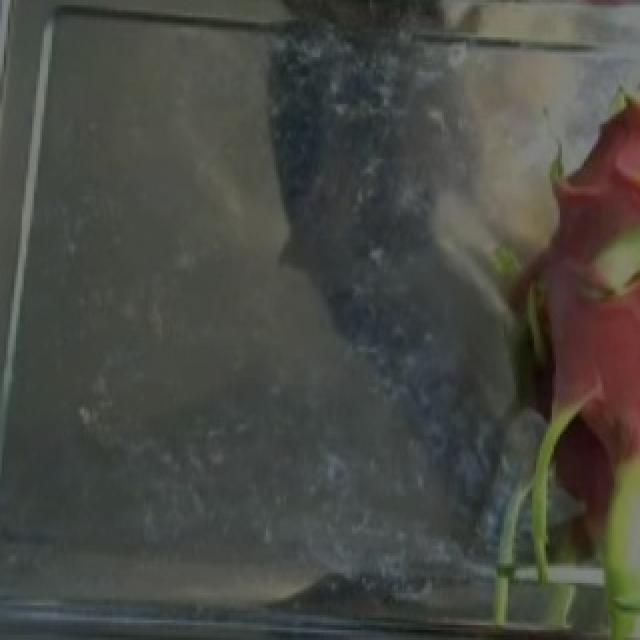fruit: (424, 221, 640, 635)
